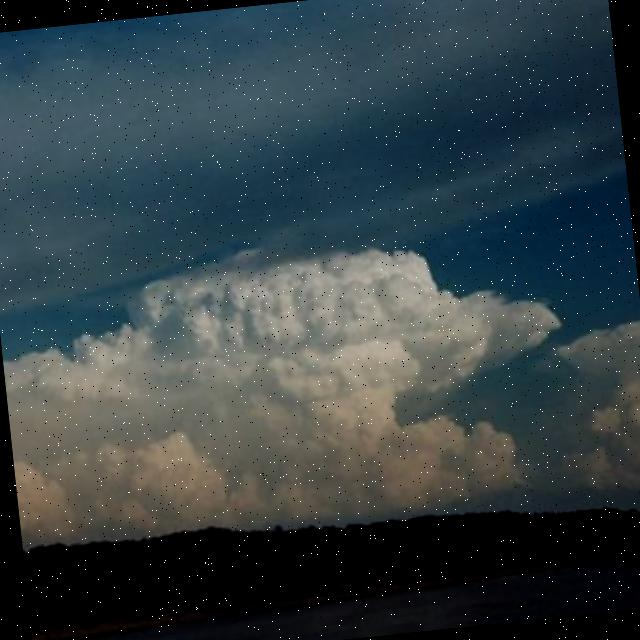Cb: (1, 158, 640, 548)
